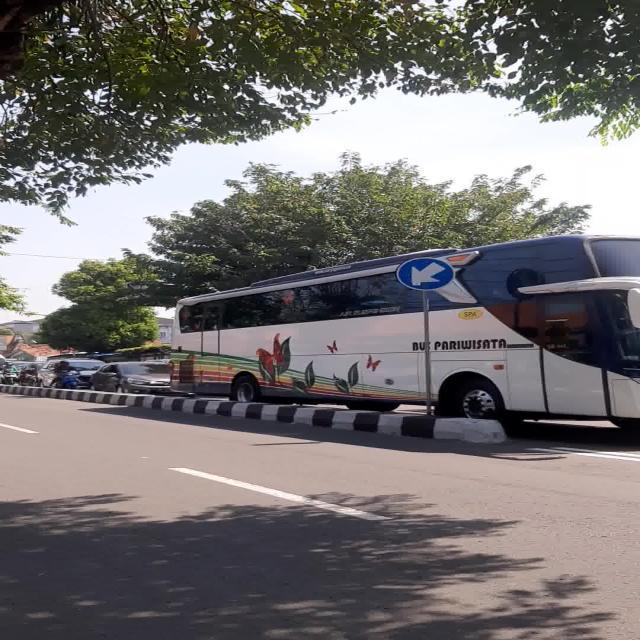Lajur Kiri: (396, 257, 454, 291)
